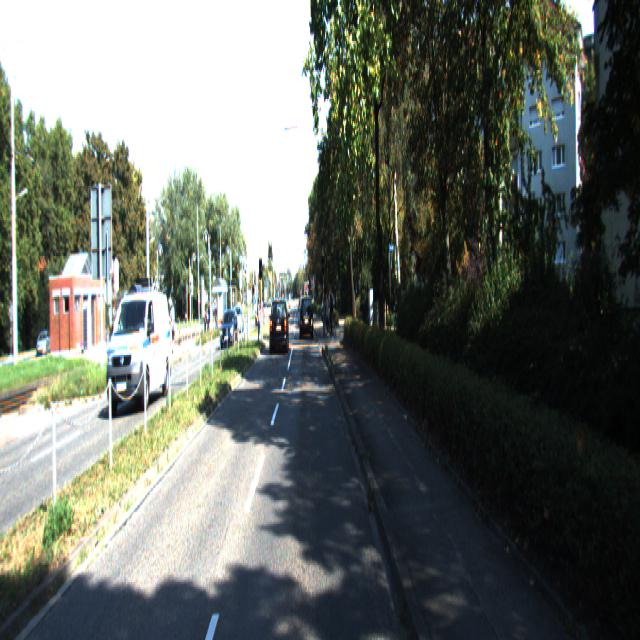Car: (106, 294, 173, 416), (270, 298, 290, 356), (220, 309, 239, 350), (300, 296, 314, 342)
